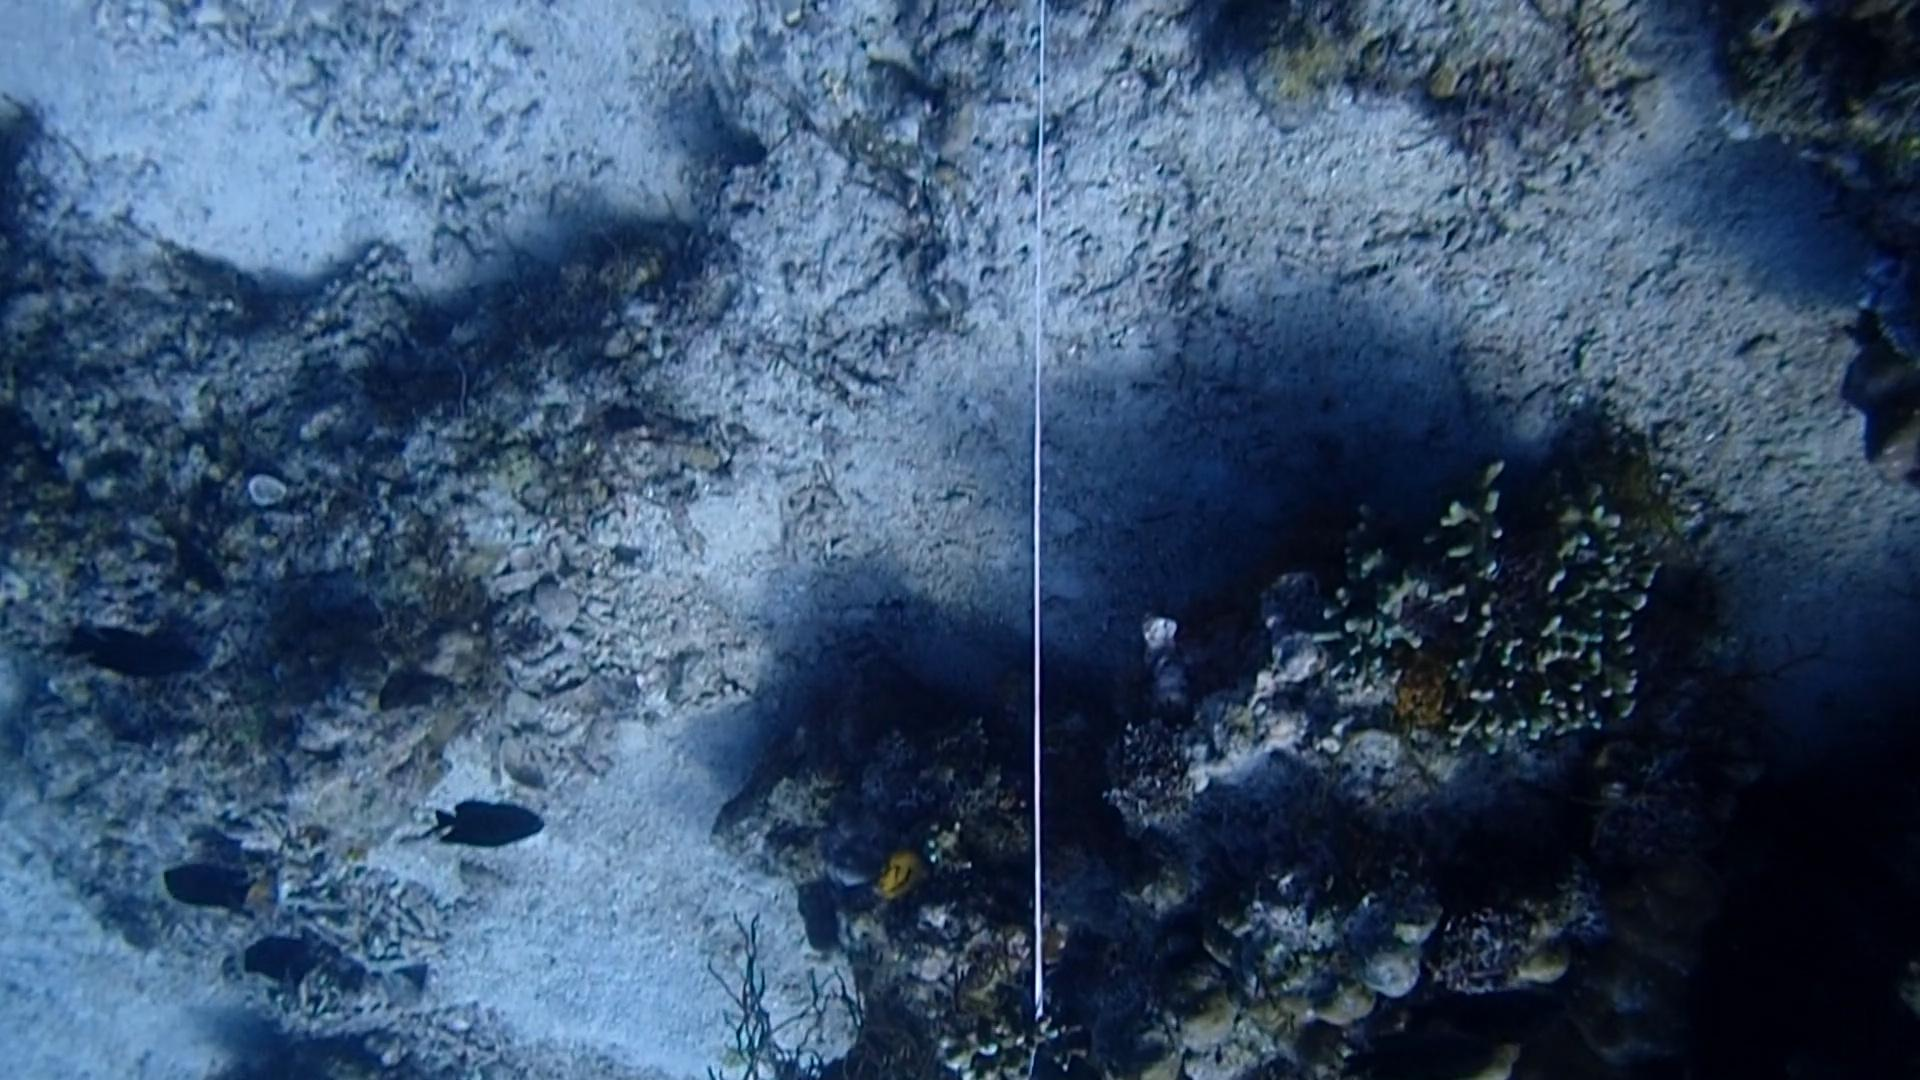Dark Fish: (66, 616, 212, 705), (429, 790, 545, 862), (150, 521, 239, 612), (150, 856, 251, 927), (219, 923, 319, 992)
